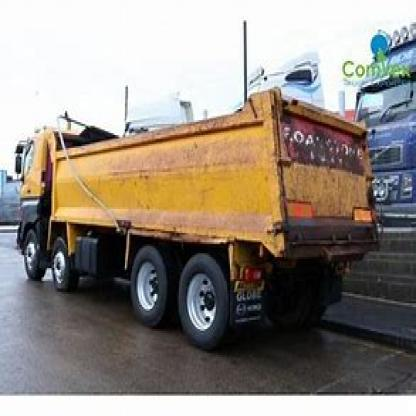dump_truck: (13, 83, 383, 357)
